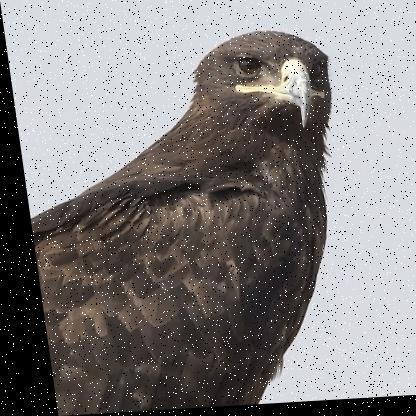Burung: (6, 33, 362, 414)
